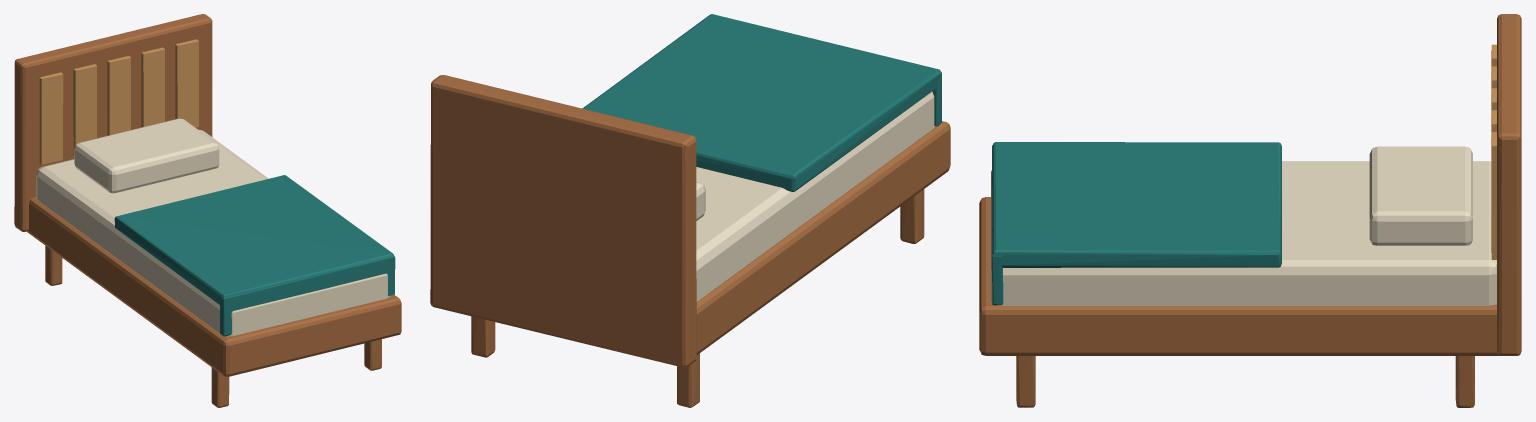
The model's file is single-bed-near.glb.
3 views of the same model, side by side, from view 1: azimuth 30°, elevation 25°; view 2: azimuth 150°, elevation 25°; view 3: azimuth 270°, elevation 25° (orthographic). The views are drawn at different scales.
Parts seen in each view (by area): view 1: single-bed; view 2: single-bed; view 3: single-bed.
Boxes of the visible parts, box(x1,y1,x2,y2) form: single-bed: box(14, 14, 401, 407); single-bed: box(430, 14, 950, 407); single-bed: box(979, 14, 1521, 407).
Bounding box in the file's own units: 1.13 × 1.21 × 2.1.
